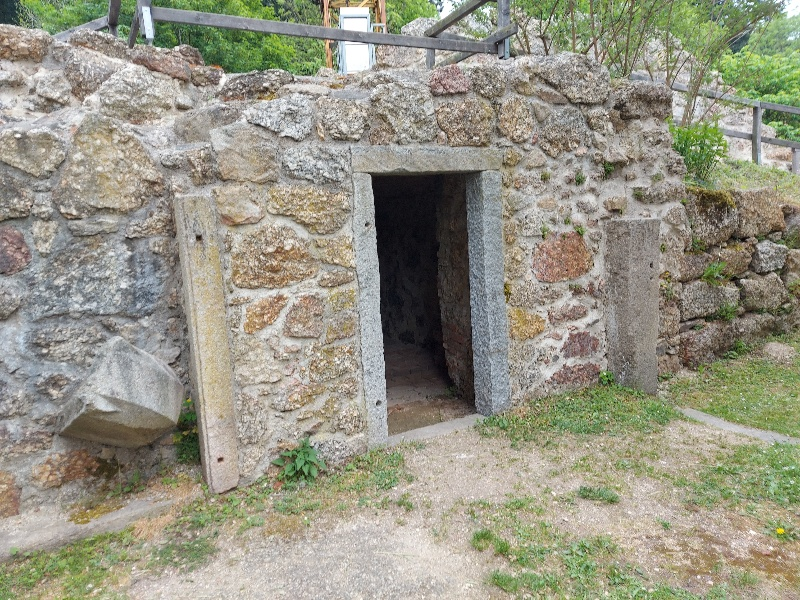door2: (345, 136, 524, 449)
